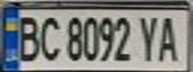0: (81, 12, 100, 62)
2: (112, 12, 136, 62)
8: (63, 12, 84, 62)
9: (97, 12, 118, 62)
A: (154, 12, 187, 63)
B: (12, 11, 42, 63)
C: (36, 12, 63, 63)
Y: (136, 12, 163, 63)
